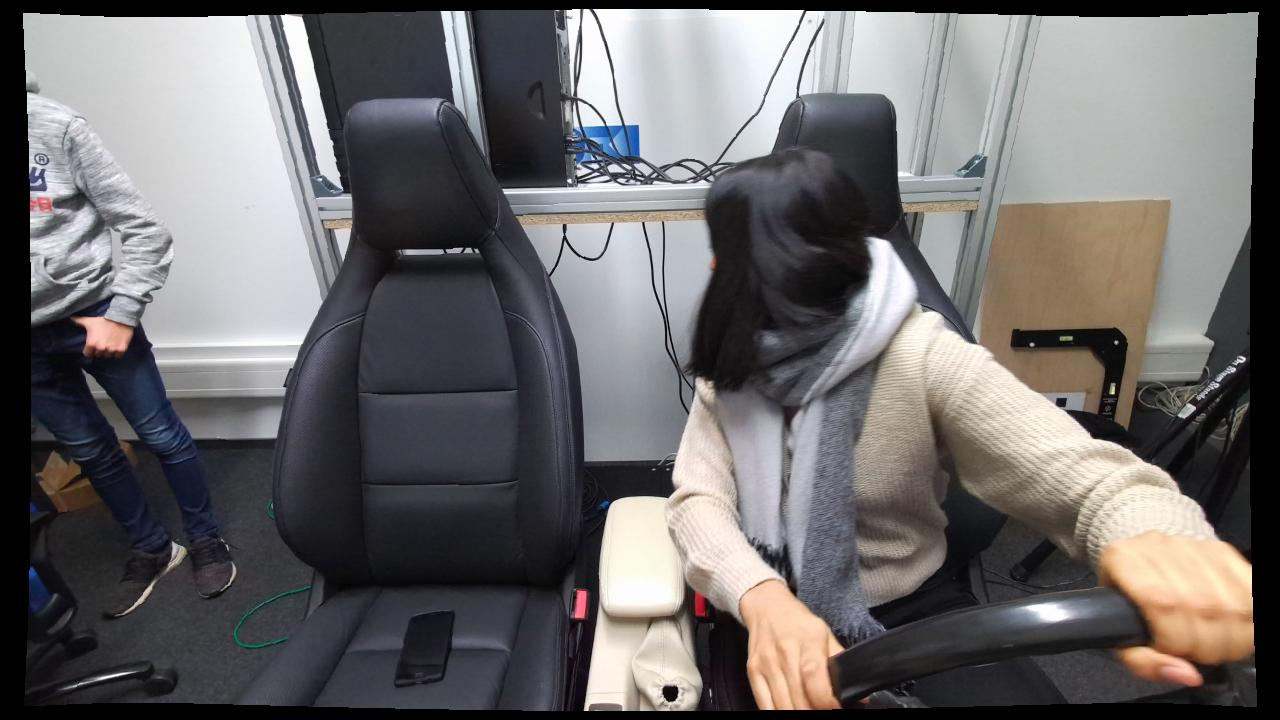Distracted: (667, 138, 1037, 718)
